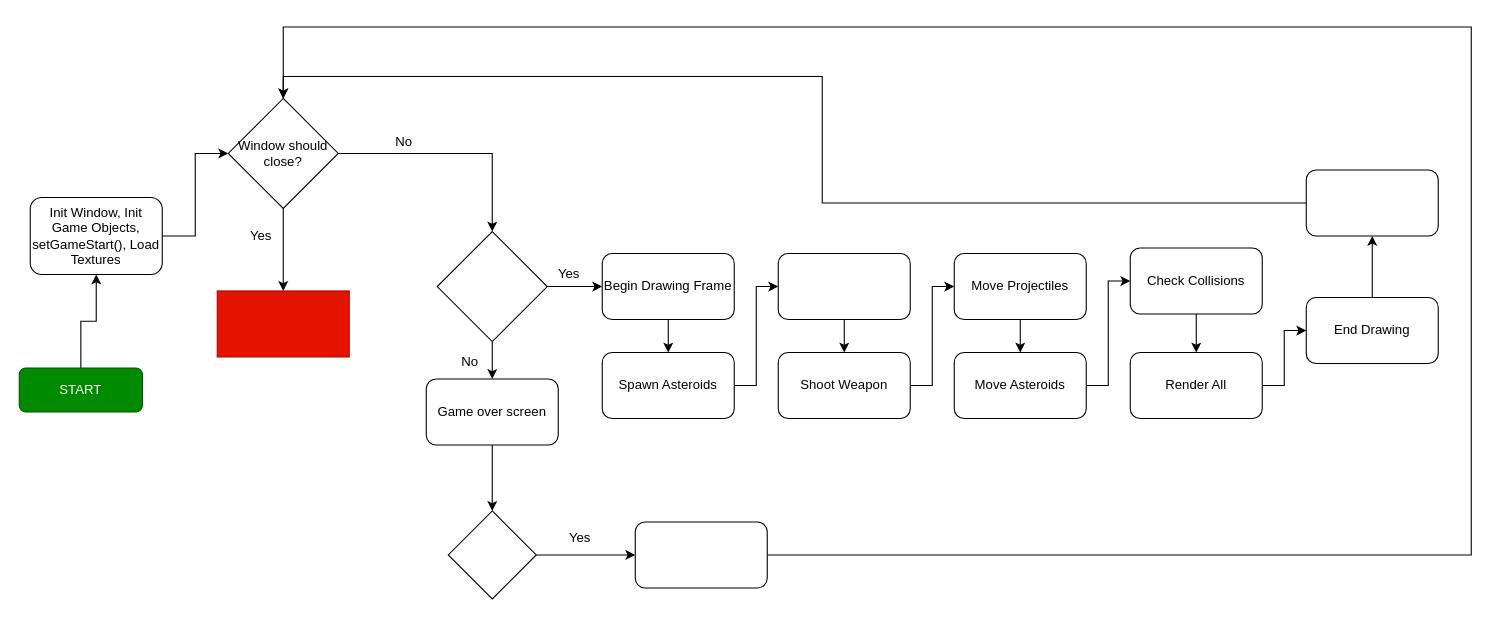
Some shapes in this 1499 by 618 pixel diagram are drawn without their labels. Each missing label, with the centre of its shape:
Is "R" pressed: point 491,554
Is the game running: point 491,286
Move Ship: point 843,286
Next Frame: point 1371,202
setGameStart(): point 700,554
Unload Textures, Close Game: point 282,323
